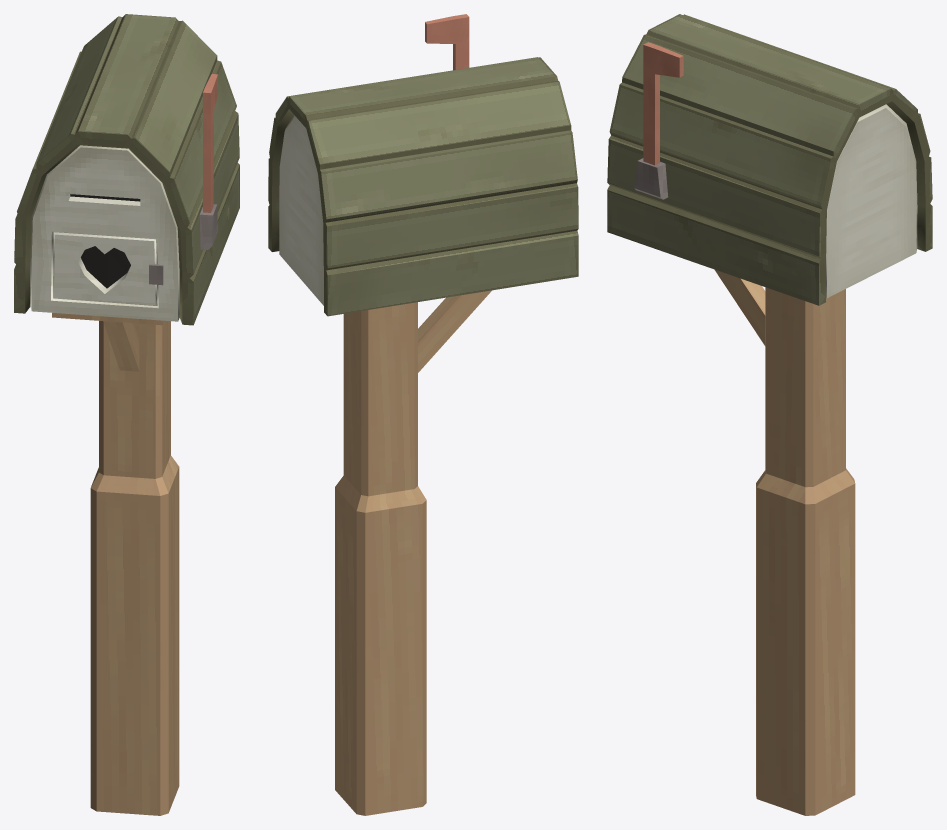
File: mailbox.glb
3 renders of one model, left to right at view 1: azimuth 30°, elevation 25°; view 2: azimuth 150°, elevation 25°; view 3: azimuth 270°, elevation 25°, orthographic. The views are drawn at different scales.
Visible parts, largest first — view 1: letterbox_obj_letterbox_mat_0; view 2: letterbox_obj_letterbox_mat_0; view 3: letterbox_obj_letterbox_mat_0.
Boxes of the visible parts, x1=… form: letterbox_obj_letterbox_mat_0: x1=14, y1=14, x2=239, y2=815; letterbox_obj_letterbox_mat_0: x1=268, y1=14, x2=578, y2=815; letterbox_obj_letterbox_mat_0: x1=607, y1=14, x2=932, y2=815.
Bounding box in the file's own units: 0.6401 × 1.69 × 0.6693.
1 material, 1 textured.
